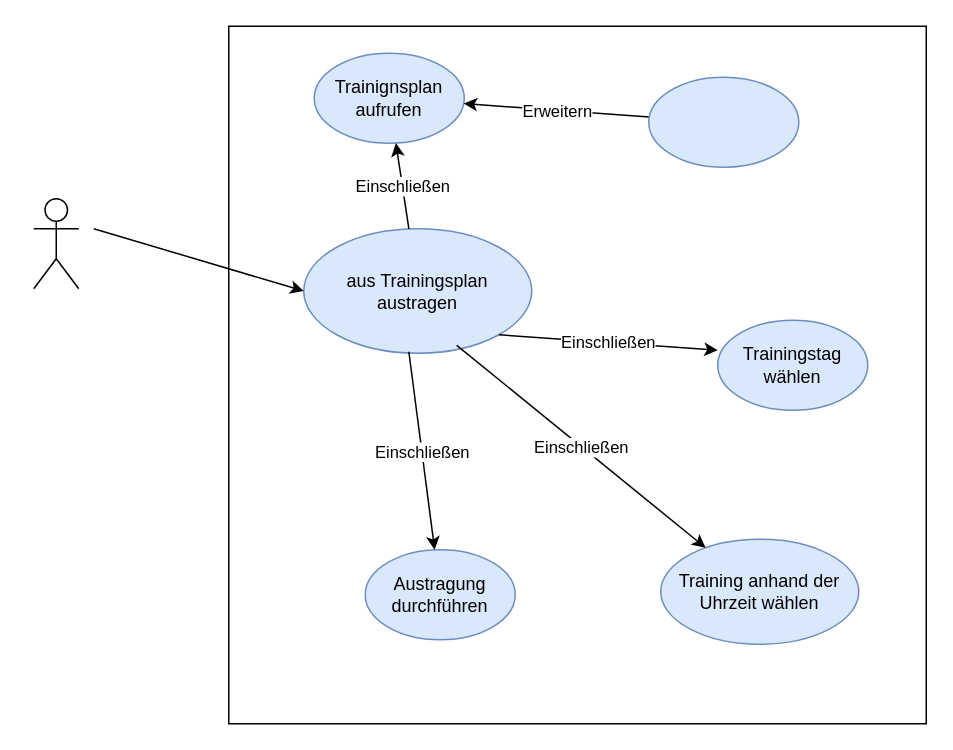
Some shapes in this 953 by 750 pixel diagram are drawn without their labels. The centre of each missing label's shape, as x and y in pixels:
Einloggen: point 723,121
Mitglied: point 55,243
